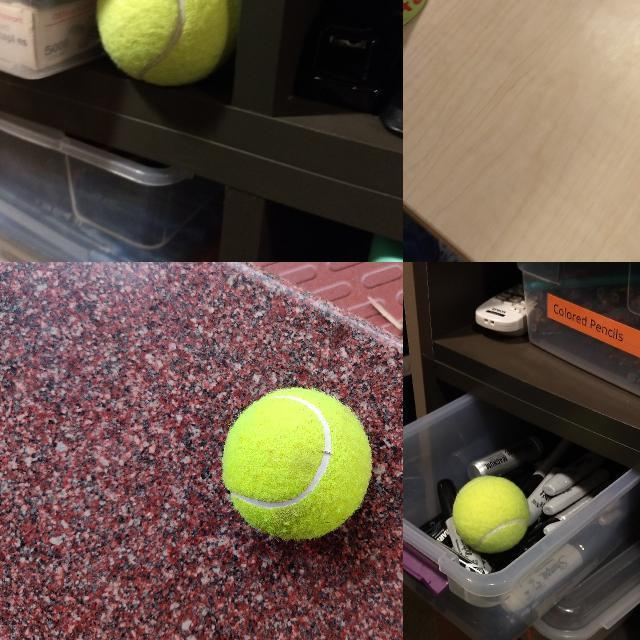tennis-ball: (223, 388, 371, 538), (94, 0, 237, 87), (452, 474, 530, 552)
